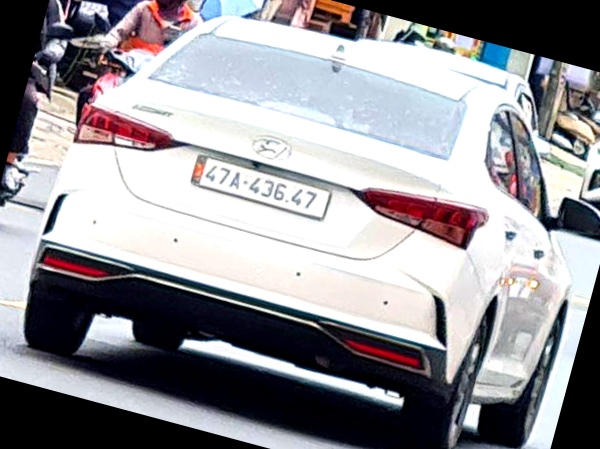lisence: (194, 155, 330, 220)
